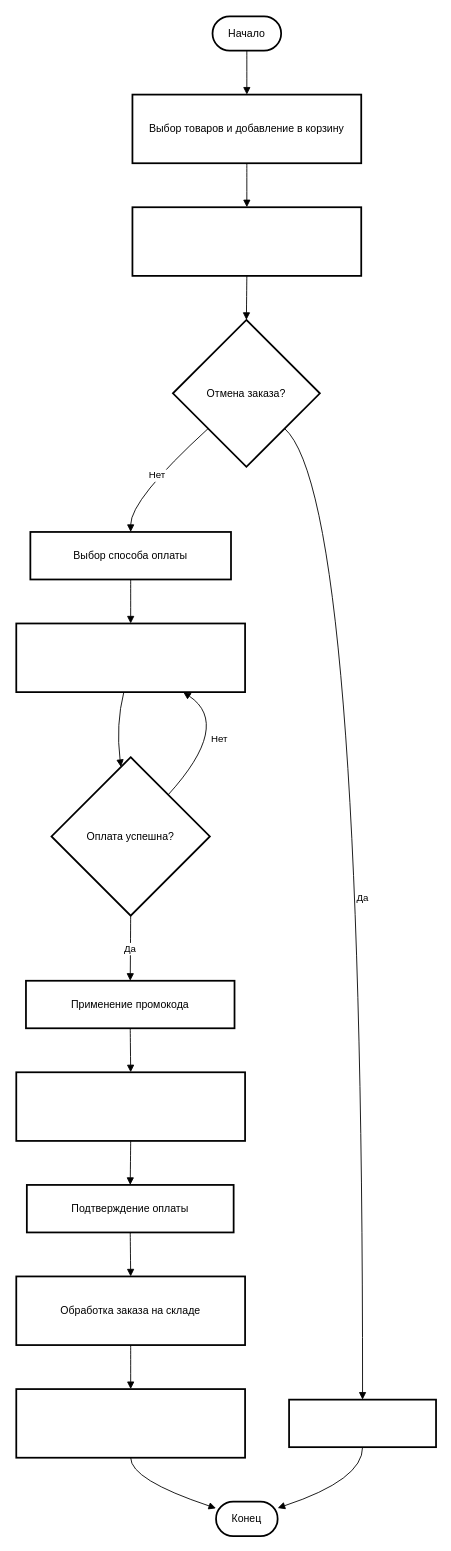
Some shapes in this 451 by 1551 pixel diagram are drawn without their labels. The shapes that lost their labels are listed below. From the top down, each one's centre as x and y in pixels, then its label:
At pixel 246 241: "Оформление заказа: ввод данных доставки".
At pixel 130 657: "Оплата через платежную систему".
At pixel 130 1106: "Расчёт итоговой стоимости".
At pixel 130 1423: "Отправка заказа на доставку".
At pixel 362 1423: "Заказ отменён".
